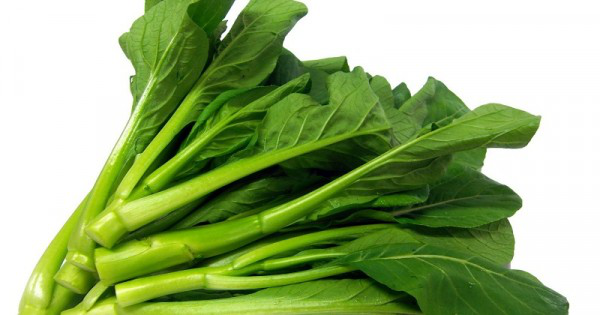Sawi: (49, 8, 573, 315)
